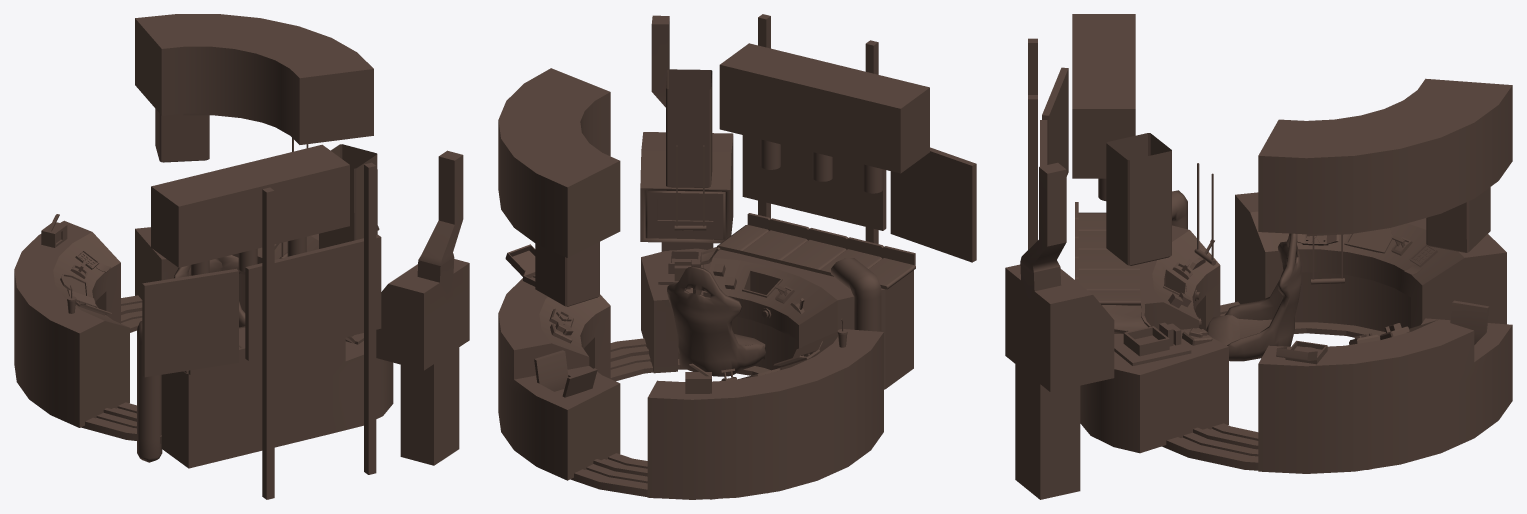
File: stations_proto_2.fbx
3 views of the same model, side by side, from view 1: azimuth 30°, elevation 25°; view 2: azimuth 150°, elevation 25°; view 3: azimuth 270°, elevation 25° (orthographic). The views are drawn at different scales.
Parts seen in each view (by area): view 1: stations_base, stations_base1, pCube5, pCube7, pCube3, pCube4, pCube9, pCube8, pCube22, pCube14, pCube37, tracks (+2 smaller); view 2: stations_base, pCube7, stations_base1, pCube5, pCube4, pCube3, Chair, pCube37, tracks, pCube22, pCube14, pCube60 (+6 smaller); view 3: stations_base, stations_base1, pCube5, pCube7, pCube37, Chair, tracks, pCube22, pCube4, pCube8, pCube2, pCube41 (+6 smaller).
Boxes of the visible parts, <box> form: stations_base: <box>14,220,393,468</box>; stations_base1: <box>135,14,373,144</box>; pCube5: <box>376,150,469,465</box>; pCube7: <box>151,144,349,267</box>; pCube3: <box>245,235,381,360</box>; pCube4: <box>142,268,238,377</box>; pCube9: <box>262,187,274,499</box>; pCube8: <box>364,162,376,474</box>; pCube22: <box>155,109,209,162</box>; pCube14: <box>137,321,162,462</box>; pCube37: <box>319,144,377,248</box>; tracks: <box>81,295,161,443</box>; stations_base: <box>498,213,915,499</box>; pCube7: <box>719,43,929,173</box>; stations_base1: <box>498,68,620,257</box>; pCube5: <box>640,15,733,251</box>; pCube4: <box>890,147,976,262</box>; pCube3: <box>742,135,886,230</box>; Chair: <box>667,266,765,376</box>; pCube37: <box>666,69,712,187</box>; tracks: <box>570,338,770,499</box>; pCube22: <box>535,242,599,306</box>; pCube14: <box>831,258,881,331</box>; pCube60: <box>505,244,535,286</box>; stations_base: <box>1075,192,1512,473</box>; stations_base1: <box>1258,78,1512,236</box>; pCube5: <box>1005,162,1114,499</box>; pCube7: <box>1072,14,1135,178</box>; pCube37: <box>1106,133,1171,265</box>; Chair: <box>1205,233,1301,361</box>; tracks: <box>1162,301,1385,470</box>; pCube22: <box>1426,187,1490,252</box>; pCube4: <box>1042,67,1068,176</box>; pCube8: <box>1028,95,1037,249</box>; pCube2: <box>1123,326,1169,356</box>; pCube41: <box>1102,302,1151,333</box>.
Size of the model in its own units: 377 by 330 by 431.
